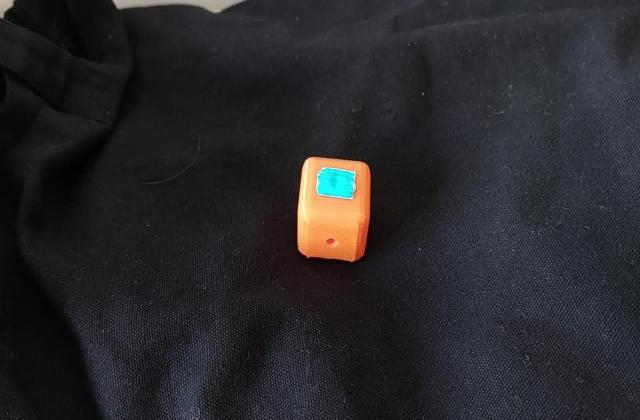blue: (322, 172, 350, 194)
sticker: (294, 154, 373, 262)
